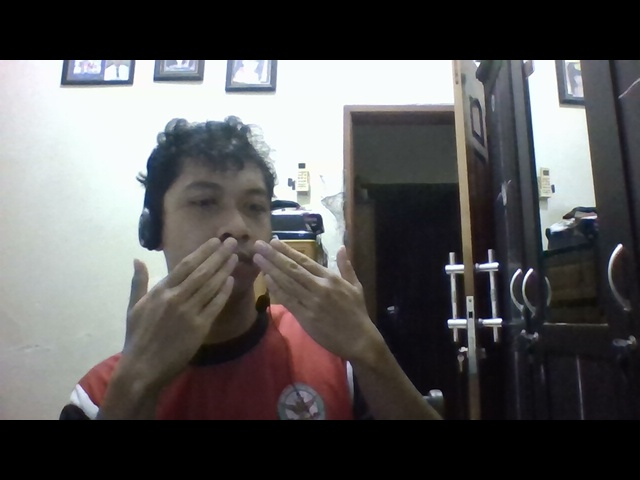thankyou: (102, 228, 400, 388)
